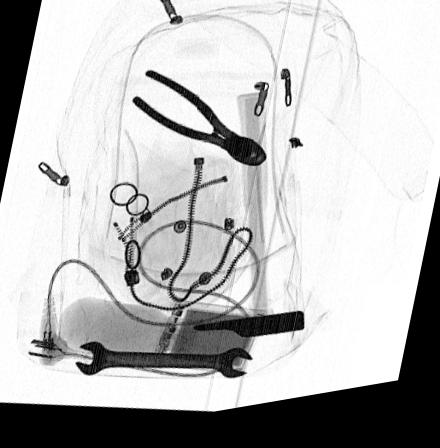Hammer: (191, 101, 303, 346)
Pliers: (130, 74, 265, 175)
Powerbank: (149, 305, 270, 383)
Wrench: (72, 344, 254, 388)
